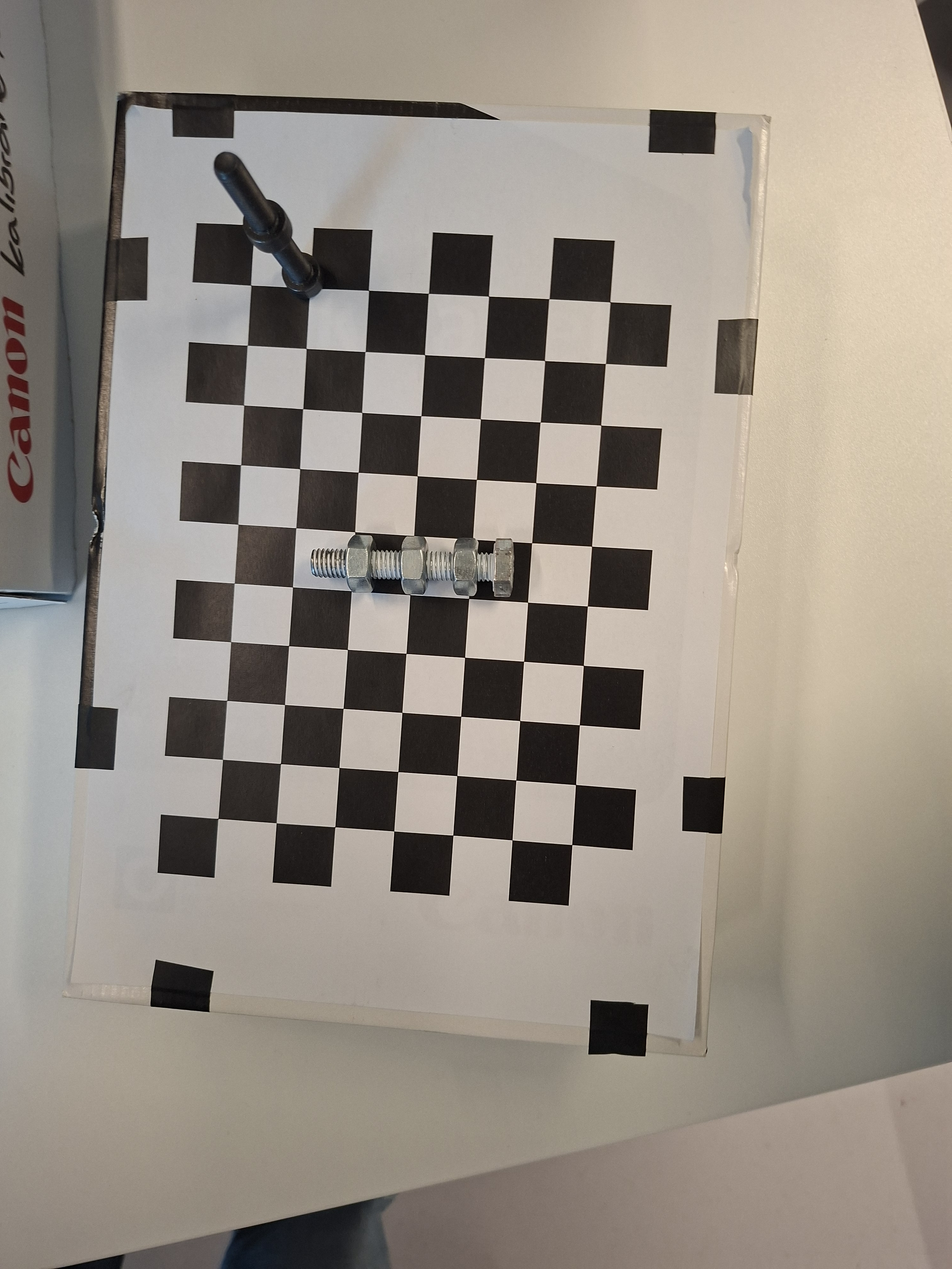allen_screw: (202, 136, 305, 261), (260, 229, 338, 313)
hex_bolt: (304, 526, 522, 606)
hex_nut: (342, 531, 379, 595), (396, 535, 433, 597), (451, 538, 479, 596)
